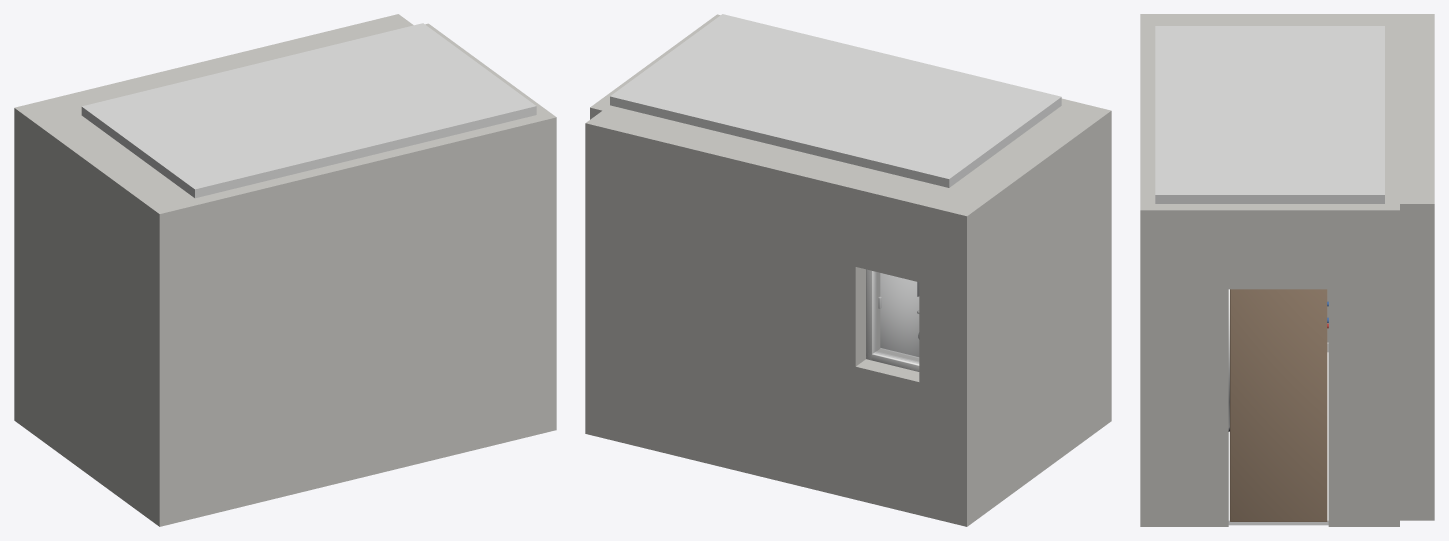
The model's file is kotelnaya.glb.
3 renders of one model, left to right at view 1: azimuth 30°, elevation 25°; view 2: azimuth 150°, elevation 25°; view 3: azimuth 270°, elevation 25°, orthographic.
Parts seen in each view (by area): view 1: wall_S, wall_W, wall_ceil, wall_N, wall_E; view 2: wall_N, wall_W, wall_ceil, m_Стекло, boiler__m_Эмаль, wall_S, m_ПВХ рама, wall_E; view 3: wall_E, wall_ceil, wall_N, wall_W, wall_S, m_Керамогранит 300.
Boxes of the visible parts, box(x1,y1,x2,y2) form: wall_S: box(152, 115, 543, 526); wall_W: box(14, 104, 202, 526); wall_ceil: box(81, 23, 536, 198); wall_N: box(14, 14, 413, 437); wall_E: box(425, 23, 556, 432); wall_N: box(585, 105, 991, 526); wall_W: box(924, 101, 1111, 526); wall_ceil: box(610, 14, 1061, 187); m_Стекло: box(874, 272, 918, 363); boiler__m_Эмаль: box(880, 273, 919, 356); wall_S: box(1061, 98, 1111, 426); m_ПВХ рама: box(866, 269, 919, 371); wall_E: box(590, 14, 720, 119); wall_E: box(1140, 204, 1399, 526); wall_ceil: box(1155, 26, 1384, 203); wall_N: box(1385, 14, 1434, 520); wall_W: box(1140, 14, 1434, 352); wall_S: box(1140, 14, 1155, 203); m_Керамогранит 300: box(1228, 352, 1328, 525).
Bounding box in the file's own units: 3.72 × 2.94 × 2.36.
